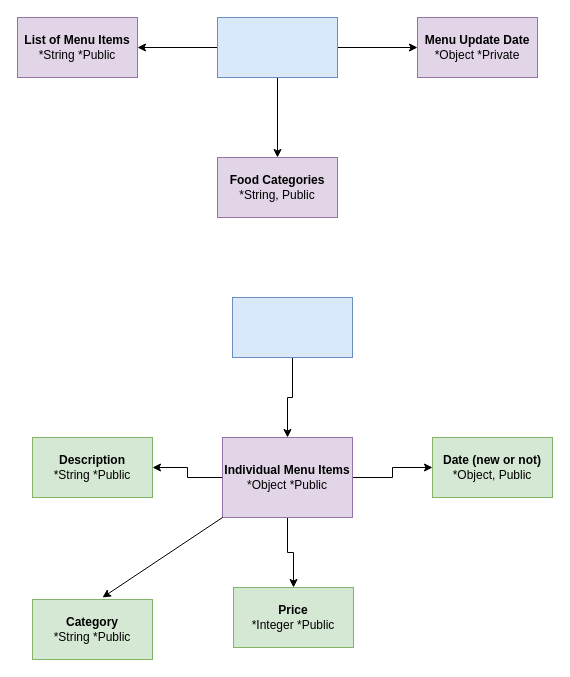
Some shapes in this 570 by 677 pixel diagram are drawn without their labels. The shapes that lost their labels are listed below. From the top down, each one's centre as x and y in pixels, then its label:
At point (277, 47): "MENU CLASS".
At point (292, 327): "MENU ITEMS CLASS".
